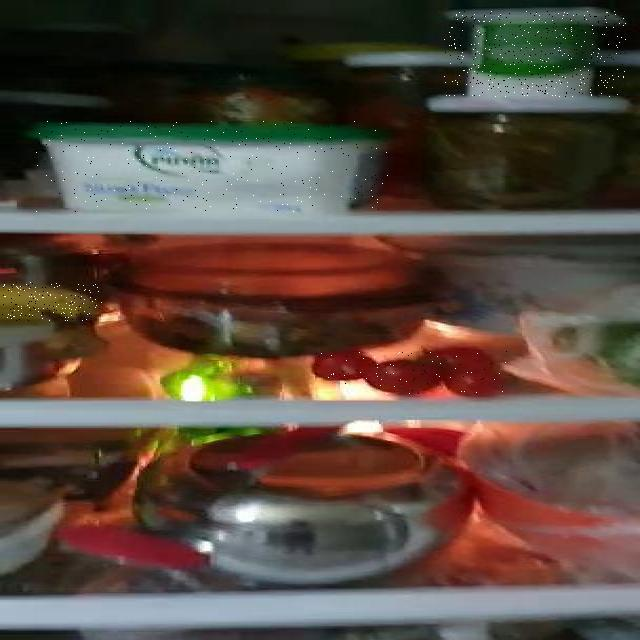banana: (2, 282, 103, 321)
cheese: (36, 121, 391, 212)
tomato: (316, 351, 508, 395)
yoghurt: (444, 11, 626, 97)
